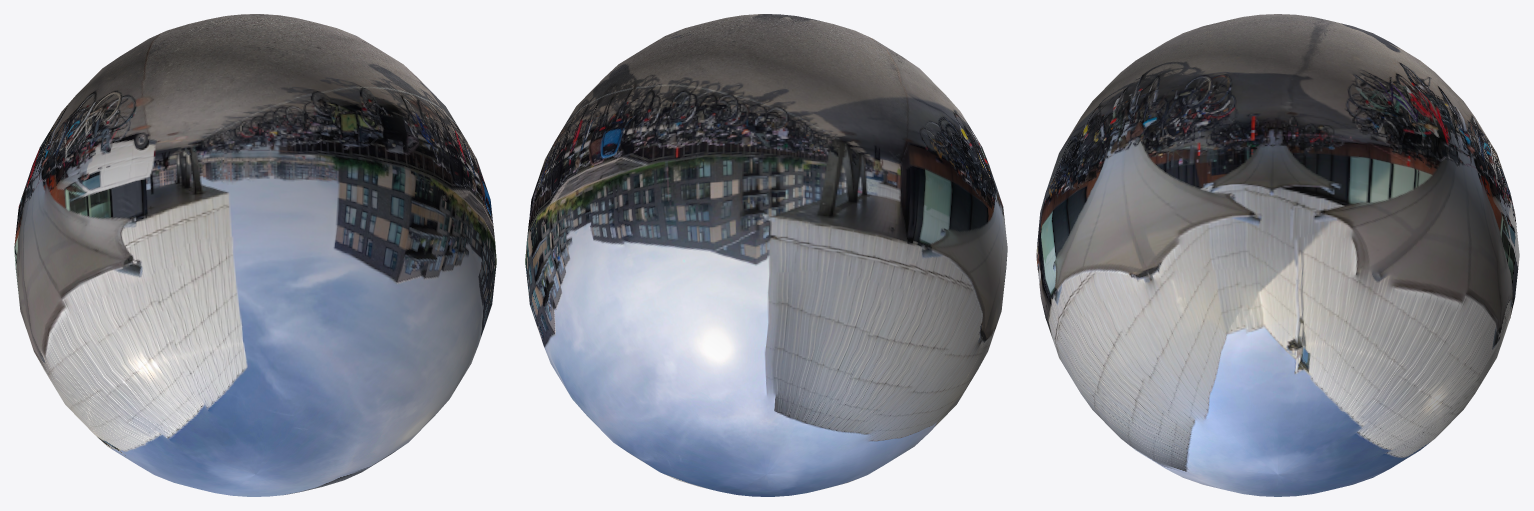
The model's file is UnrollSphere3.gltf.
3 renders of one model, left to right at view 1: azimuth 30°, elevation 25°; view 2: azimuth 150°, elevation 25°; view 3: azimuth 270°, elevation 25°, orthographic.
Parts seen in each view (by area): view 1: Sphere; view 2: Sphere; view 3: Sphere.
Boxes of the visible parts, bbox=[...] form: Sphere: bbox=[14, 14, 496, 496]; Sphere: bbox=[525, 14, 1007, 496]; Sphere: bbox=[1036, 14, 1519, 496].
Size of the model in its own units: 2 by 2 by 2.
Materials: 1 (1 with a texture image).
